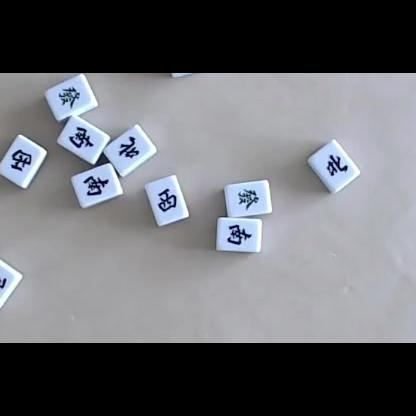2z: (69, 126, 94, 149), (227, 223, 252, 246), (83, 175, 109, 197), (0, 269, 7, 295)
3z: (10, 147, 32, 172), (156, 189, 177, 213)
4z: (118, 136, 140, 159), (326, 154, 348, 177)
6z: (237, 187, 259, 210), (59, 86, 80, 109)
